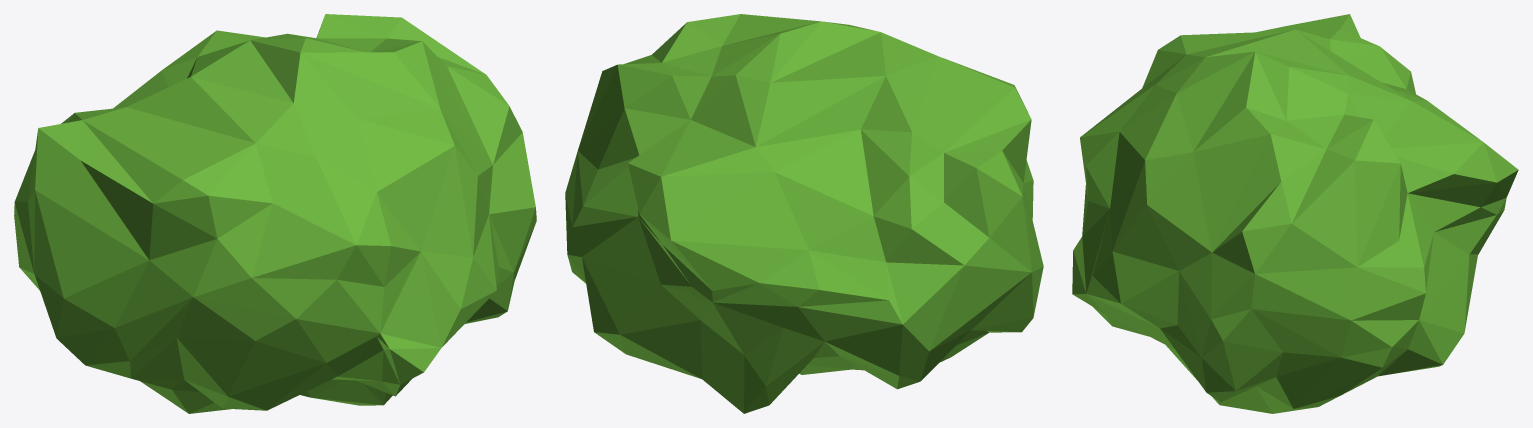
Rendered from bush_01.fbx.
3 renders of one model, left to right at view 1: azimuth 30°, elevation 25°; view 2: azimuth 150°, elevation 25°; view 3: azimuth 270°, elevation 25°, orthographic. The views are drawn at different scales.
Visible parts, largest first — view 1: bush_01; view 2: bush_01; view 3: bush_01.
Part boxes in pixels (x1,y1,x2,y2): bush_01: (14,14,536,413); bush_01: (565,14,1043,413); bush_01: (1072,14,1518,413).
Size of the model in its own units: 576 by 430 by 524.
